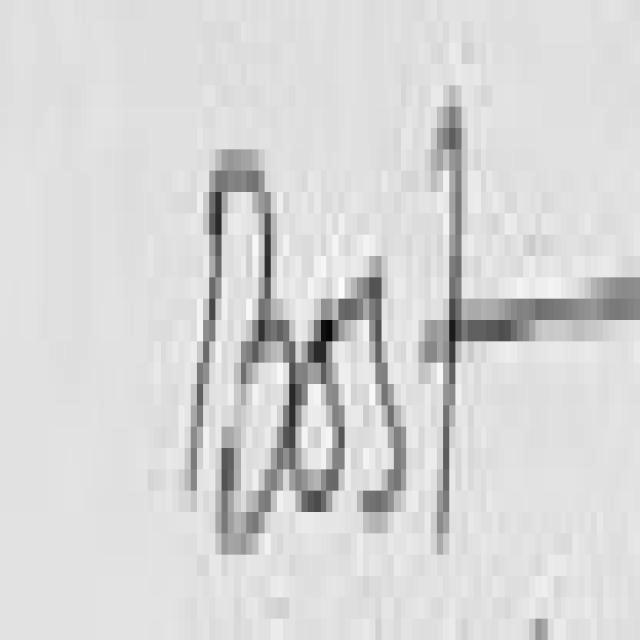B: (174, 105, 296, 608)
o: (288, 280, 348, 550)
s: (353, 217, 413, 558)
t: (423, 63, 502, 570)
